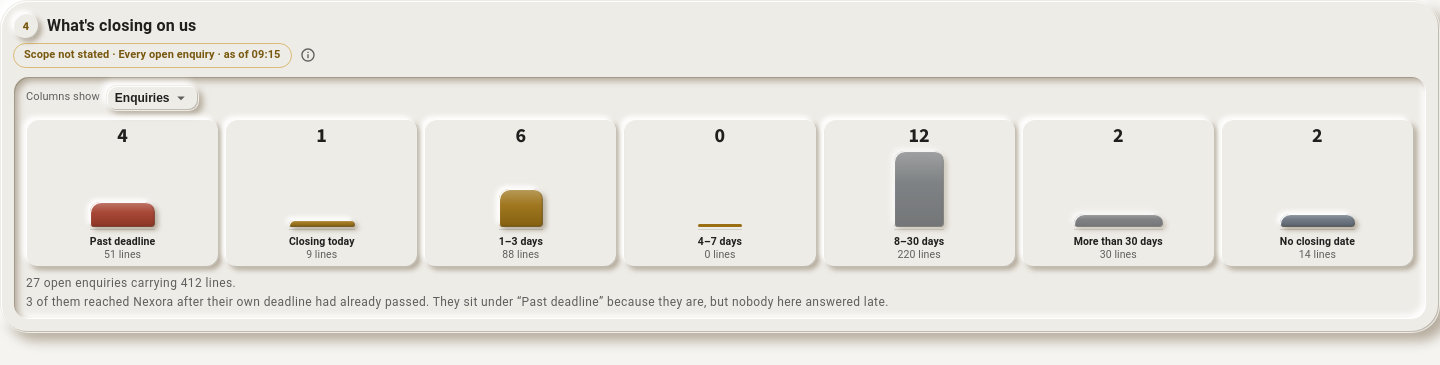
Test case: ClosingBand — populated › switches the columns to line items and saves the choice
The image size is (1440, 365).
Expected: the text with test id "closing-value-overdue" reads "4", left=117, top=122, right=128, bottom=148
Click the button with aria-label "Columns show: Enquiries. Change".
click(152, 98)  # box left=106, top=84, right=198, bottom=110
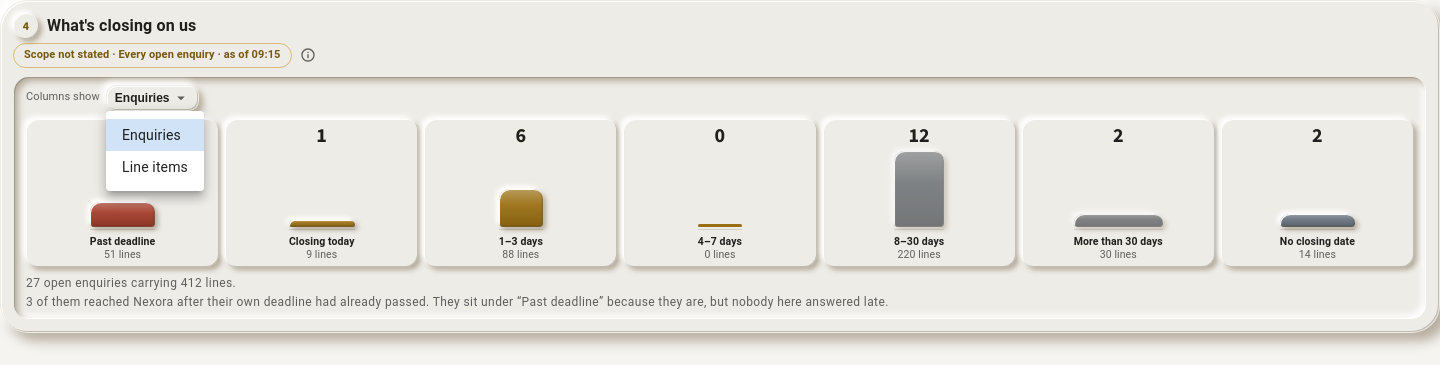
Click the menu item "Line items".
click(155, 167)  # box left=122, top=159, right=188, bottom=175
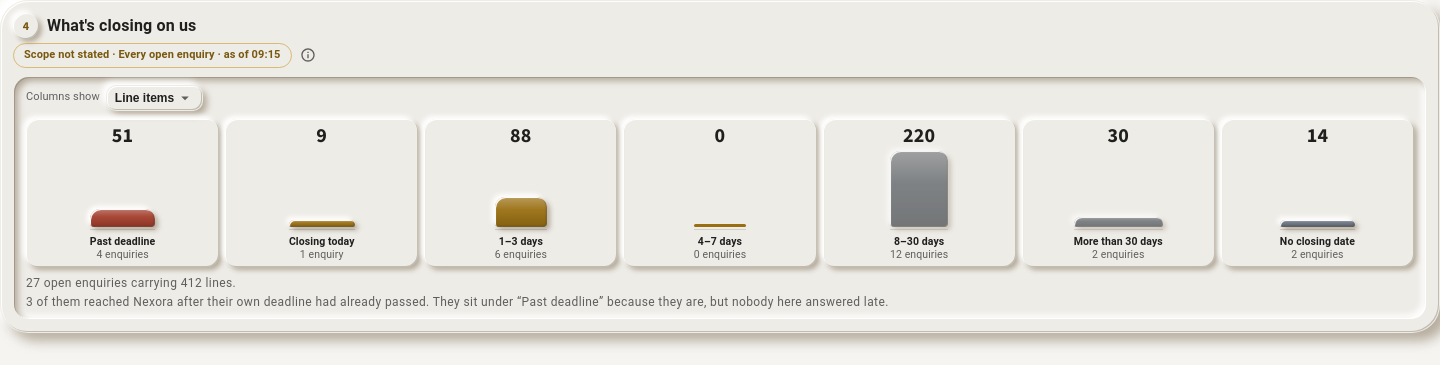
Expected: the text with test id "closing-value-overdue" reads "51", left=112, top=122, right=133, bottom=148
Expected: the text "12 enquiries" is shown, left=890, top=248, right=948, bottom=261
